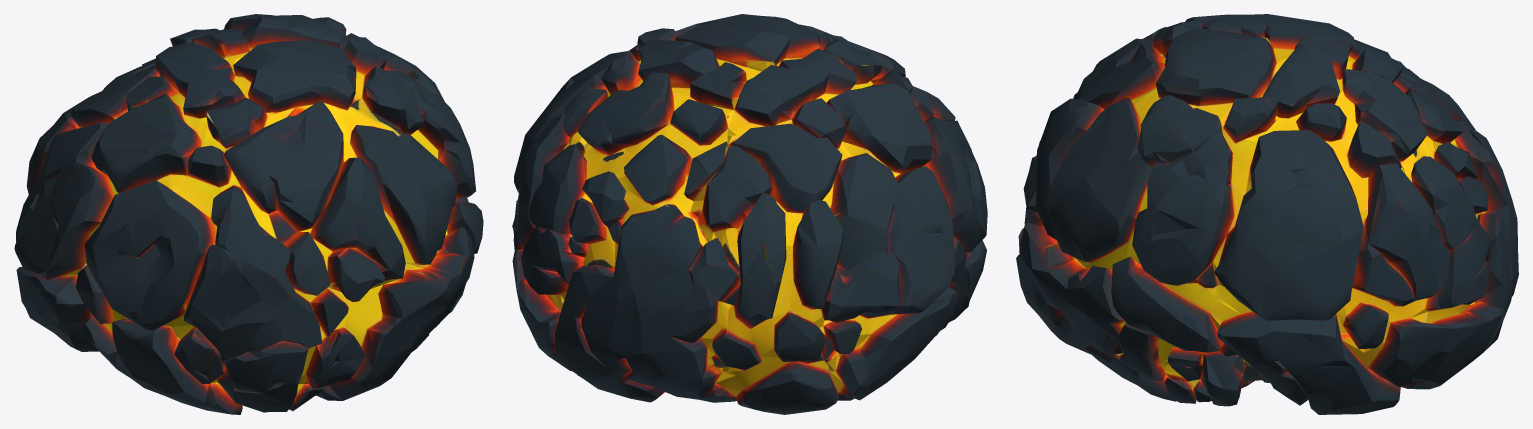
File: lava-rock.glb
3 views of the same model, side by side, from view 1: azimuth 30°, elevation 25°; view 2: azimuth 150°, elevation 25°; view 3: azimuth 270°, elevation 25° (orthographic). The views are drawn at different scales.
Size of the model in its own units: 1.85 by 1.34 by 1.86.
1 material, 1 textured.
